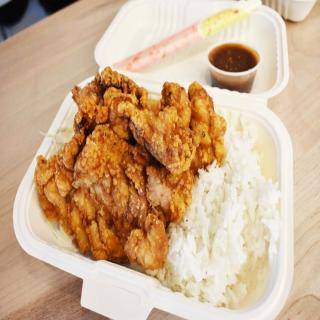carbs: (165, 220, 274, 307), (191, 166, 276, 219), (224, 104, 258, 143), (222, 142, 260, 165)
fried_chicken_rice: (34, 65, 288, 310)
meat: (74, 70, 164, 269), (165, 82, 190, 219), (191, 77, 223, 168), (34, 155, 74, 227)
veg: (40, 124, 73, 149)
